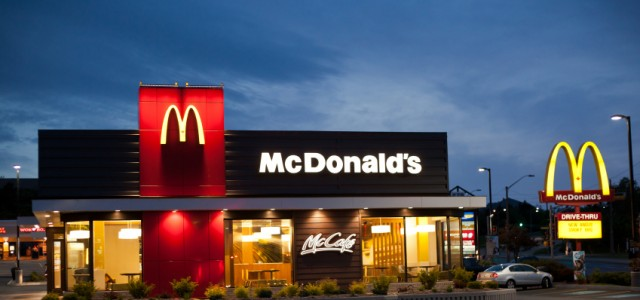mcdonalds: (542, 139, 613, 195), (156, 102, 207, 143)
